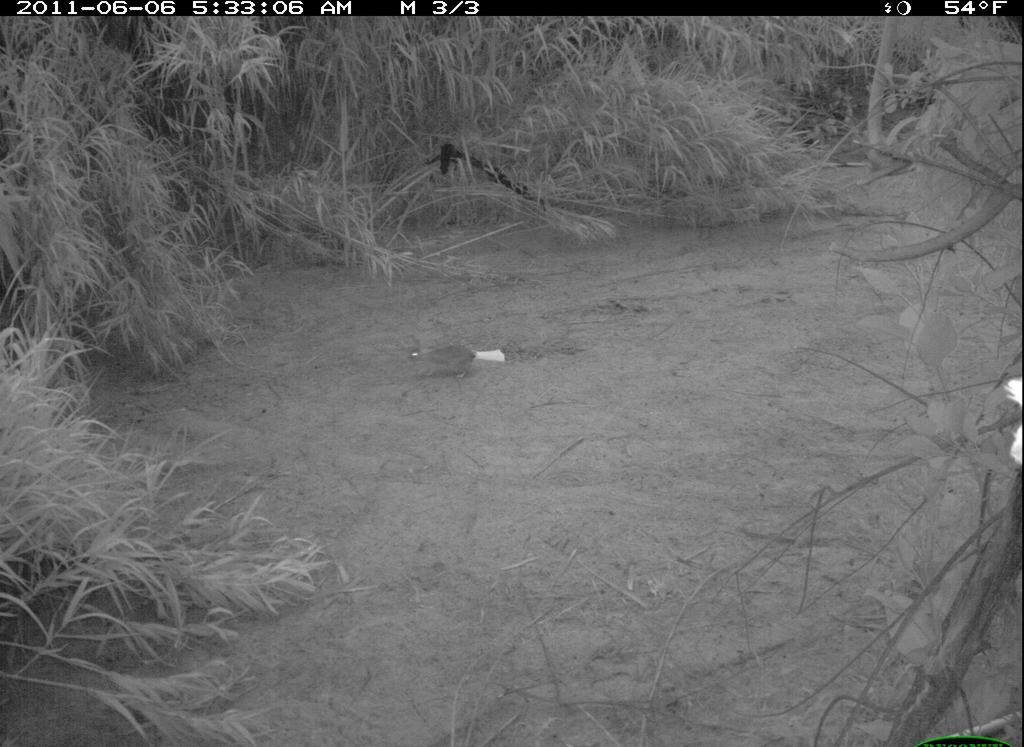rabbit: (399, 324, 492, 392)
